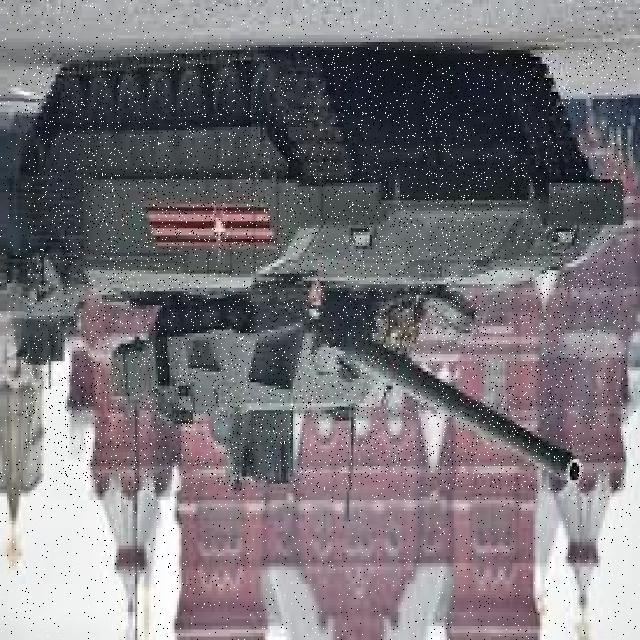MIL_MBT: (25, 46, 626, 489)
